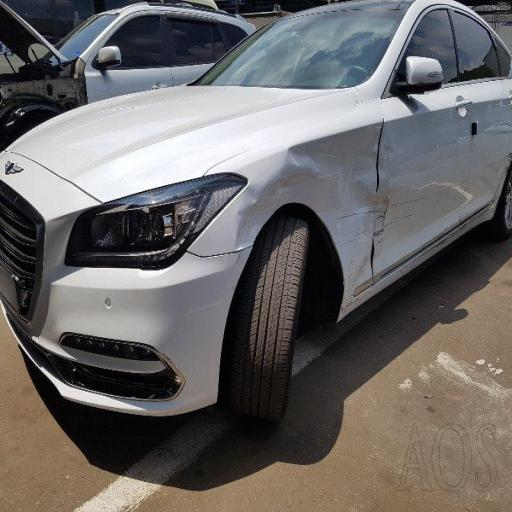dent: (293, 140, 500, 247)
